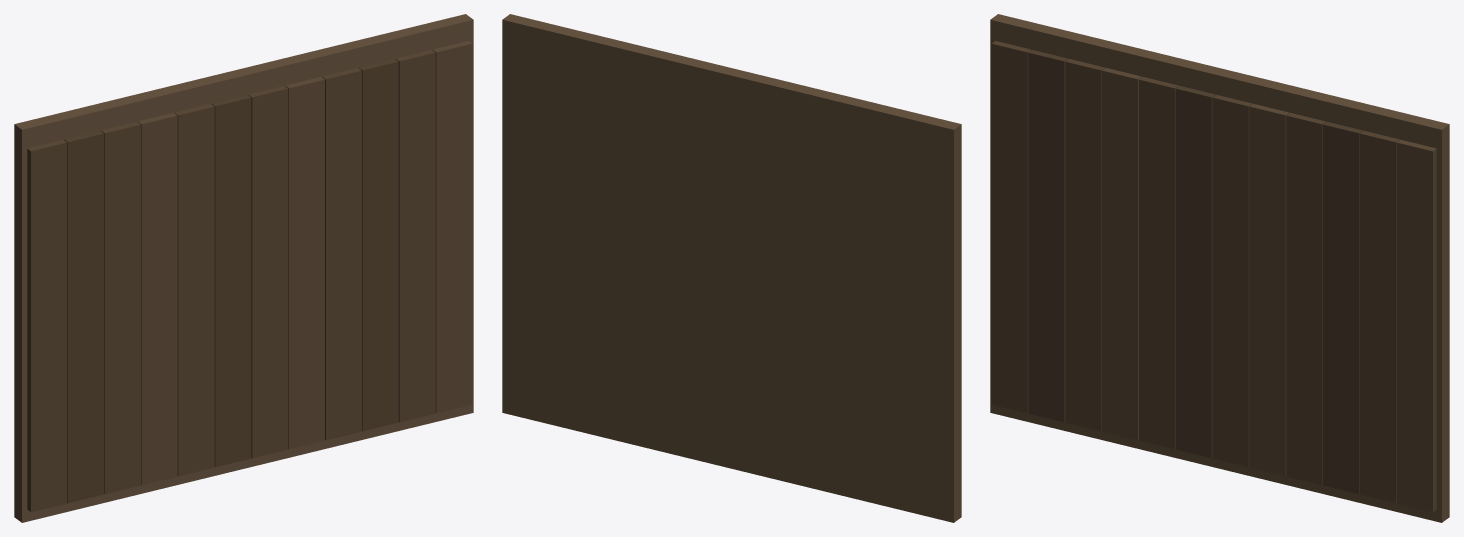
The model's file is OfficeScreen.glb.
3 renders of one model, left to right at view 1: azimuth 30°, elevation 25°; view 2: azimuth 150°, elevation 25°; view 3: azimuth 330°, elevation 25°, orthographic.
Visible parts, largest first — view 1: OfficeScreen; view 2: OfficeScreen; view 3: OfficeScreen.
Part boxes in pixels (box(x1,y1,x2,y2)): OfficeScreen: box(14, 14, 473, 522); OfficeScreen: box(502, 14, 961, 522); OfficeScreen: box(990, 14, 1449, 522).
Bounding box in the file's own units: 2.5 × 2.08 × 0.1125.
